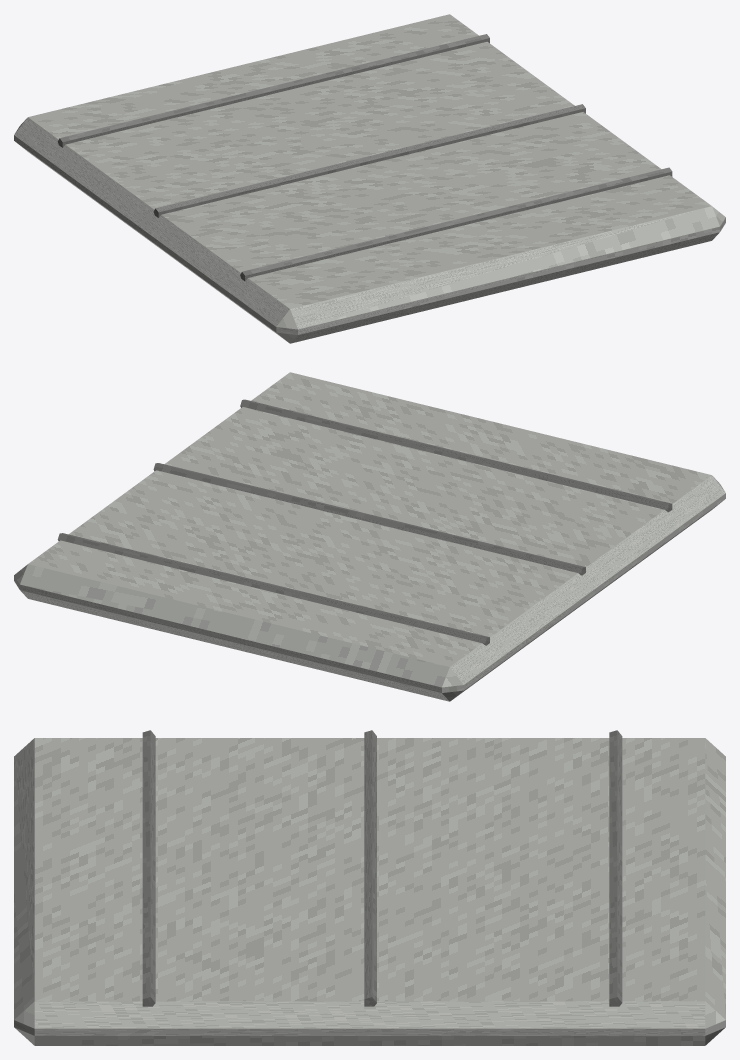
File: welding_blanket.glb
3 views of the same model, one above another, from view 1: azimuth 30°, elevation 25°; view 2: azimuth 150°, elevation 25°; view 3: azimuth 270°, elevation 25° (orthographic). The views are drawn at different scales.
Parts seen in each view (by area): view 1: block_folded textile, block_sewn fold 0 (×3); view 2: block_folded textile, block_sewn fold 0 (×3); view 3: block_folded textile, block_sewn fold 0 (×3).
Boxes of the visible parts, bbox=[...] form: block_folded textile: bbox=[14, 14, 725, 343]; block_sewn fold 0 (×3): bbox=[57, 34, 672, 281]; block_folded textile: bbox=[14, 372, 725, 701]; block_sewn fold 0 (×3): bbox=[57, 399, 672, 645]; block_folded textile: bbox=[14, 738, 725, 1045]; block_sewn fold 0 (×3): bbox=[142, 730, 622, 1006].
Size of the model in its own units: 0.7163 by 0.0602 by 0.7674.
Materials: 1 (1 with a texture image).
